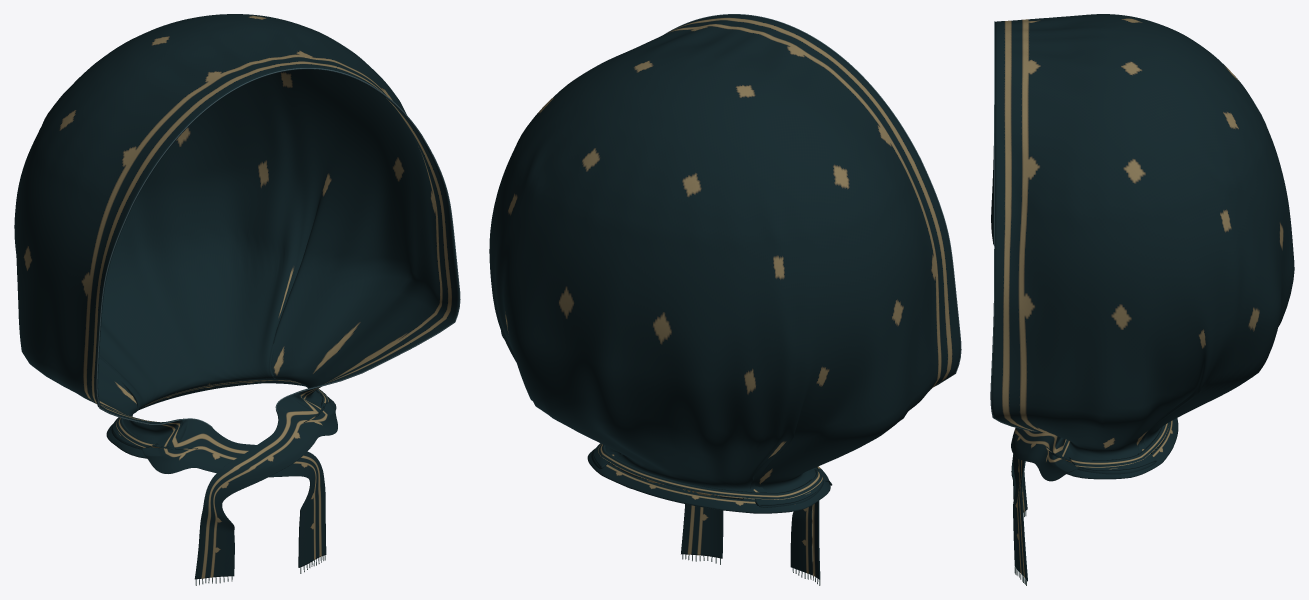
Rendered from Masculine-tank-pashmina242-headgear.glb.
3 views of the same model, side by side, from view 1: azimuth 30°, elevation 25°; view 2: azimuth 150°, elevation 25°; view 3: azimuth 270°, elevation 25° (orthographic). The views are drawn at different scales.
Parts seen in each view (by area): view 1: 226 headgear / Headwear / continuous woven pashmina239, 226 headgear / Headwear / face edge239; view 2: 226 headgear / Headwear / continuous woven pashmina239, 226 headgear / Headwear / face edge239; view 3: 226 headgear / Headwear / continuous woven pashmina239, 226 headgear / Headwear / face edge239.
Part boxes in pixels (<box>): 226 headgear / Headwear / continuous woven pashmina239: <box>14,14,459,579</box>; 226 headgear / Headwear / face edge239: <box>96,68,460,427</box>; 226 headgear / Headwear / continuous woven pashmina239: <box>489,14,960,579</box>; 226 headgear / Headwear / face edge239: <box>664,14,961,387</box>; 226 headgear / Headwear / continuous woven pashmina239: <box>991,14,1294,581</box>; 226 headgear / Headwear / face edge239: <box>990,21,1038,431</box>.
Bounding box in the file's own units: 1.03 × 1.35 × 0.7127.
Materials: 3 (1 with a texture image).
